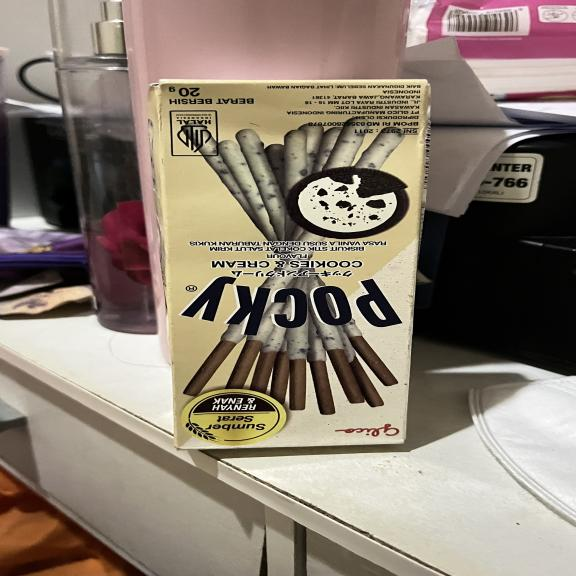Kertas: (157, 81, 429, 450)
